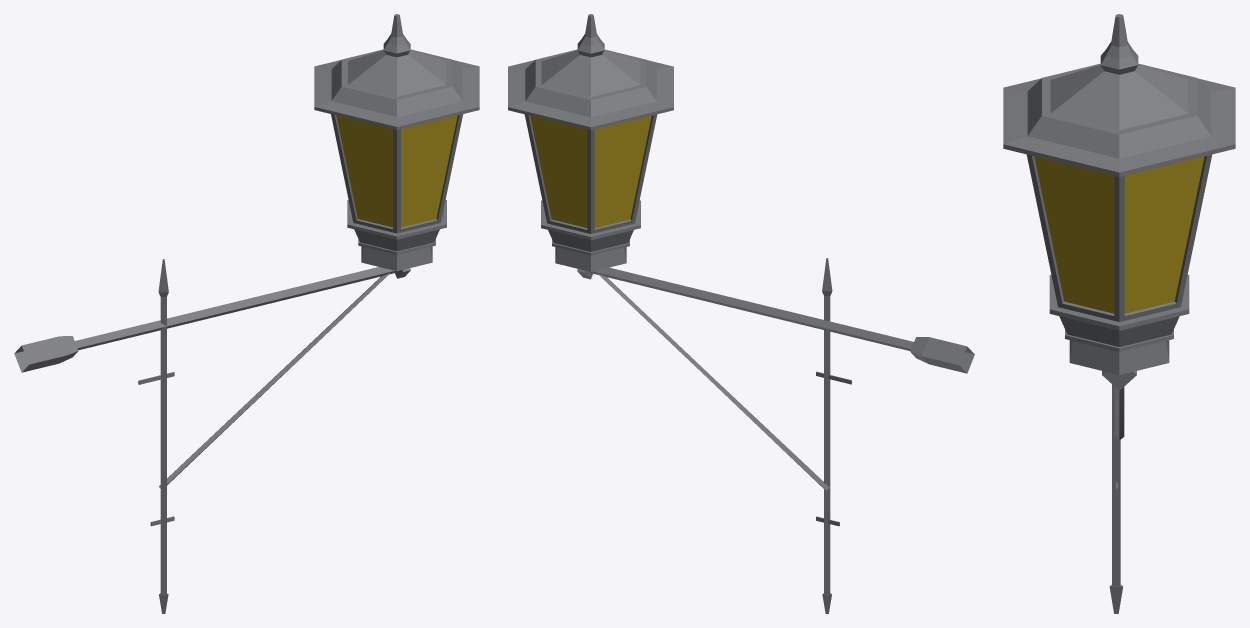
File: SM_streetlamp_wall_02.fbx
3 views of the same model, side by side, from view 1: azimuth 30°, elevation 25°; view 2: azimuth 150°, elevation 25°; view 3: azimuth 270°, elevation 25° (orthographic). The views are drawn at different scales.
Parts seen in each view (by area): view 1: Line061; view 2: Line061; view 3: Line061.
Boxes of the visible parts, <box> form: Line061: <box>14,14,479,613</box>; Line061: <box>508,14,974,613</box>; Line061: <box>1003,14,1235,613</box>.
Bounding box in the file's own units: 49 × 15.33 × 55.22.
